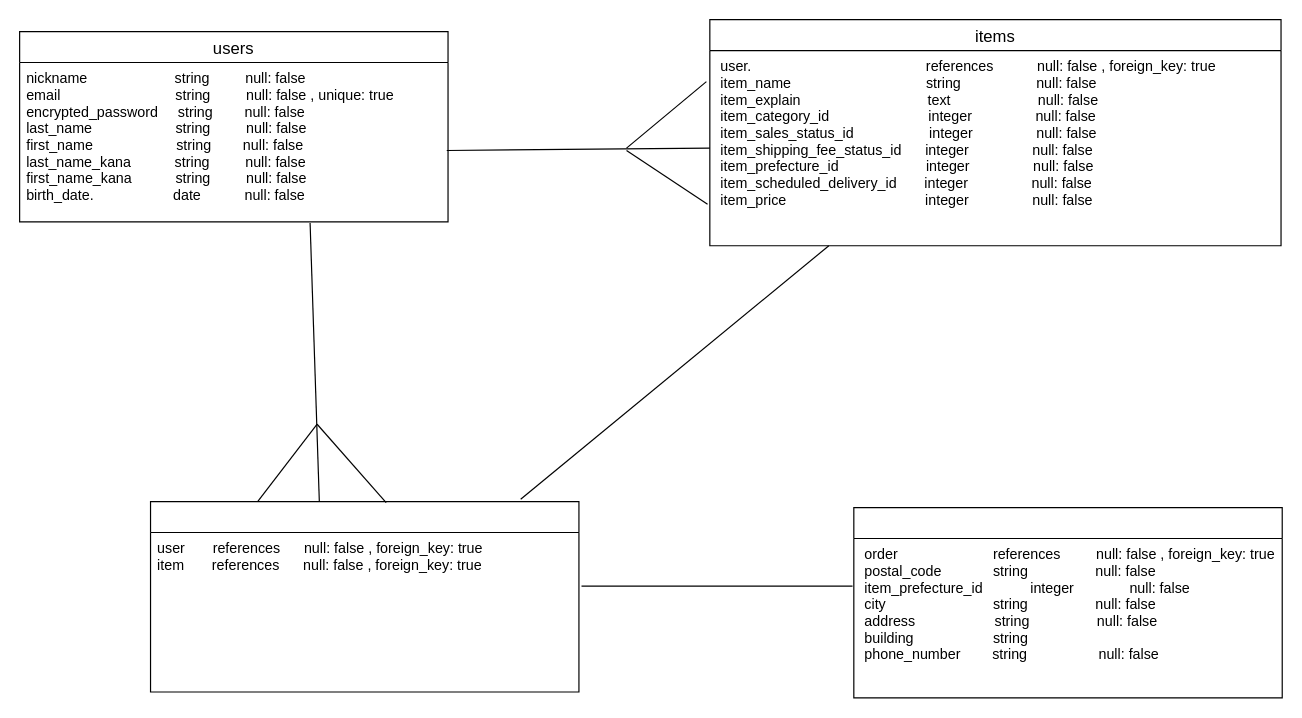
Image size: 1302x718. Some labels were removed from this diagram. The box of each missing label's shape, as (x1, y1, x2, y2) in pixels:
orders: (149, 500, 579, 692)
shipping_addresss: (853, 506, 1282, 698)
